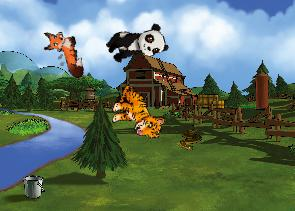fox: (40, 25, 86, 83)
panda: (103, 21, 169, 67)
tiger: (106, 82, 171, 142)
